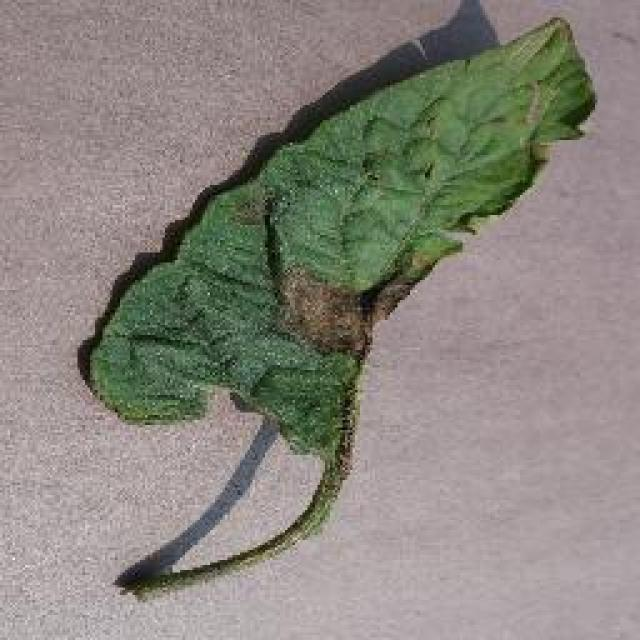Tomato Late Blight: (220, 253, 497, 367)
